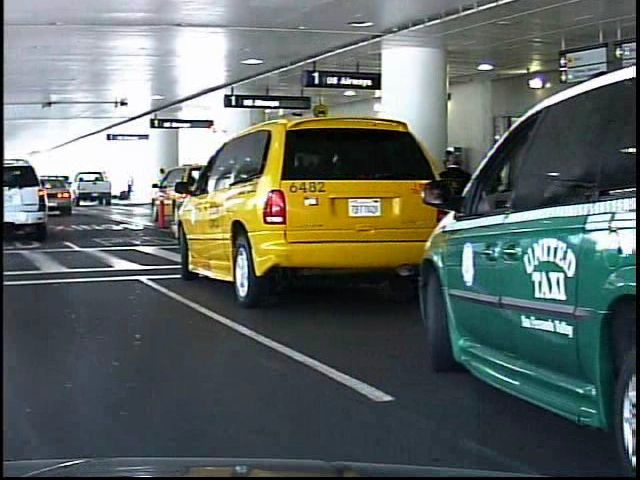person: (431, 149, 466, 281)
